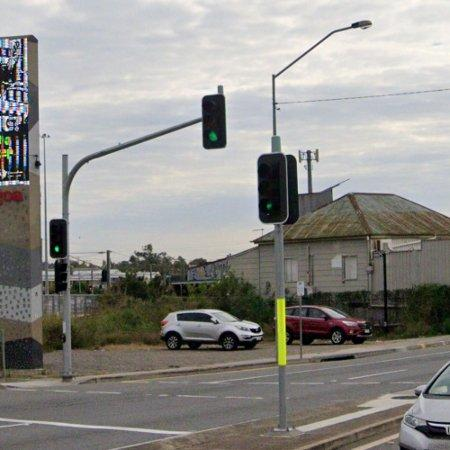traffic lights: (256, 152, 290, 225), (202, 89, 227, 152)
